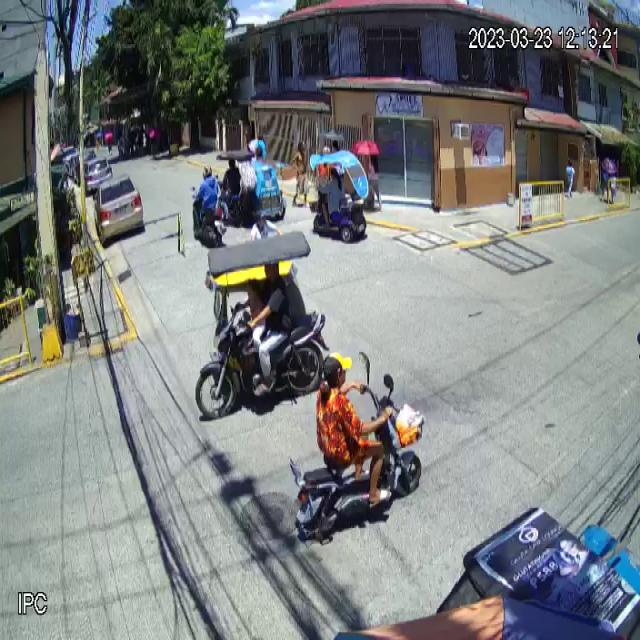Car: (92, 173, 144, 241)
Tricycle: (195, 229, 330, 422), (215, 148, 287, 224)
